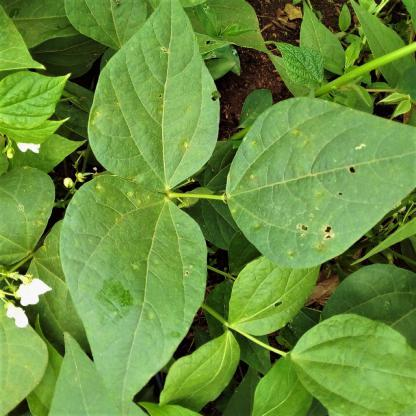Beans_Rust: (61, 173, 206, 408), (224, 102, 416, 266), (88, 0, 219, 187), (0, 166, 56, 274)
